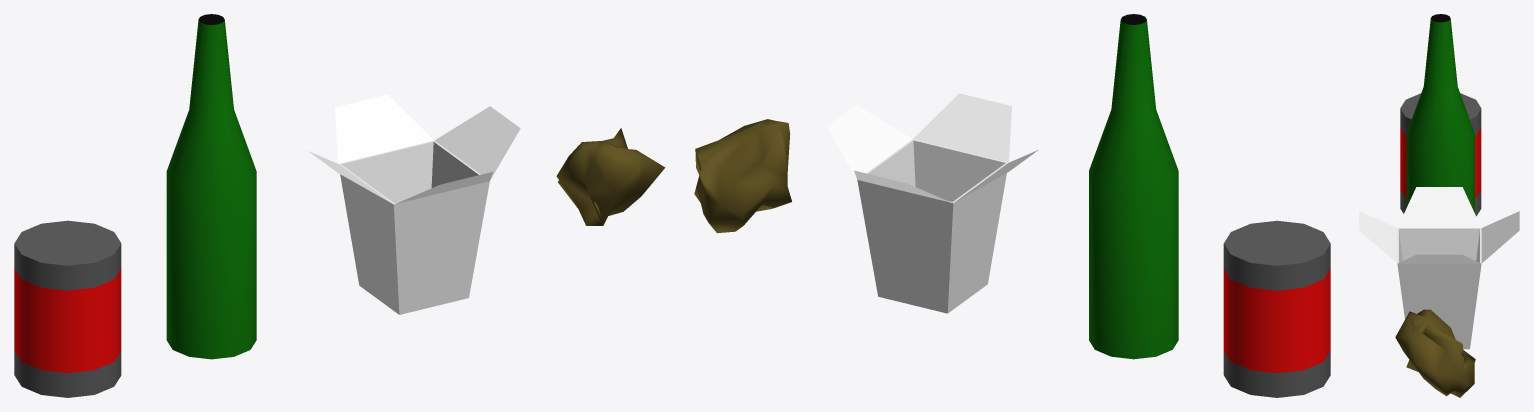
File: trash.FBX
3 views of the same model, side by side, from view 1: azimuth 30°, elevation 25°; view 2: azimuth 150°, elevation 25°; view 3: azimuth 270°, elevation 25° (orthographic). The views are drawn at different scales.
Visible parts, largest first — view 1: china box, bottle, can, paper; view 2: china box, bottle, can, paper; view 3: china box, bottle, paper, can.
Part boxes in pixels (<box>): china box: <box>308,94,520,314</box>; bottle: <box>166,14,256,359</box>; can: <box>14,220,121,397</box>; paper: <box>556,128,665,225</box>; china box: <box>826,93,1038,313</box>; bottle: <box>1089,14,1178,359</box>; can: <box>1223,220,1330,397</box>; paper: <box>694,119,791,233</box>; china box: <box>1359,187,1519,349</box>; bottle: <box>1406,14,1474,212</box>; paper: <box>1395,309,1475,397</box>; can: <box>1400,93,1481,216</box>.
Size of the model in its own units: 132 by 64.73 by 38.56.
